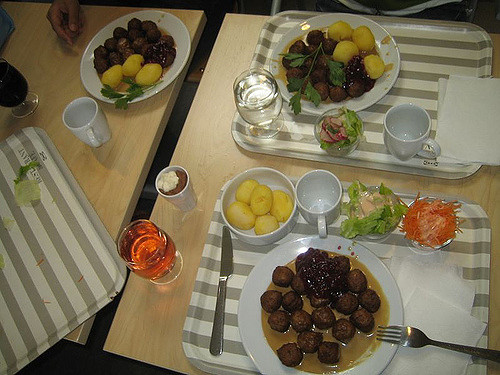boiled potatoes: (236, 184, 286, 228)
chopped lettuce: (349, 186, 391, 228)
glass of water: (294, 172, 339, 233)
meatballs: (266, 259, 368, 349)
